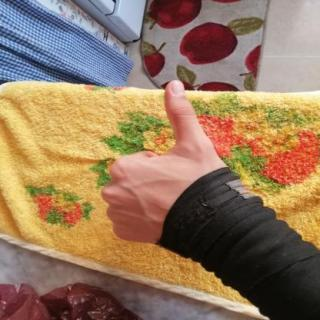ALIF: (83, 70, 252, 264)
